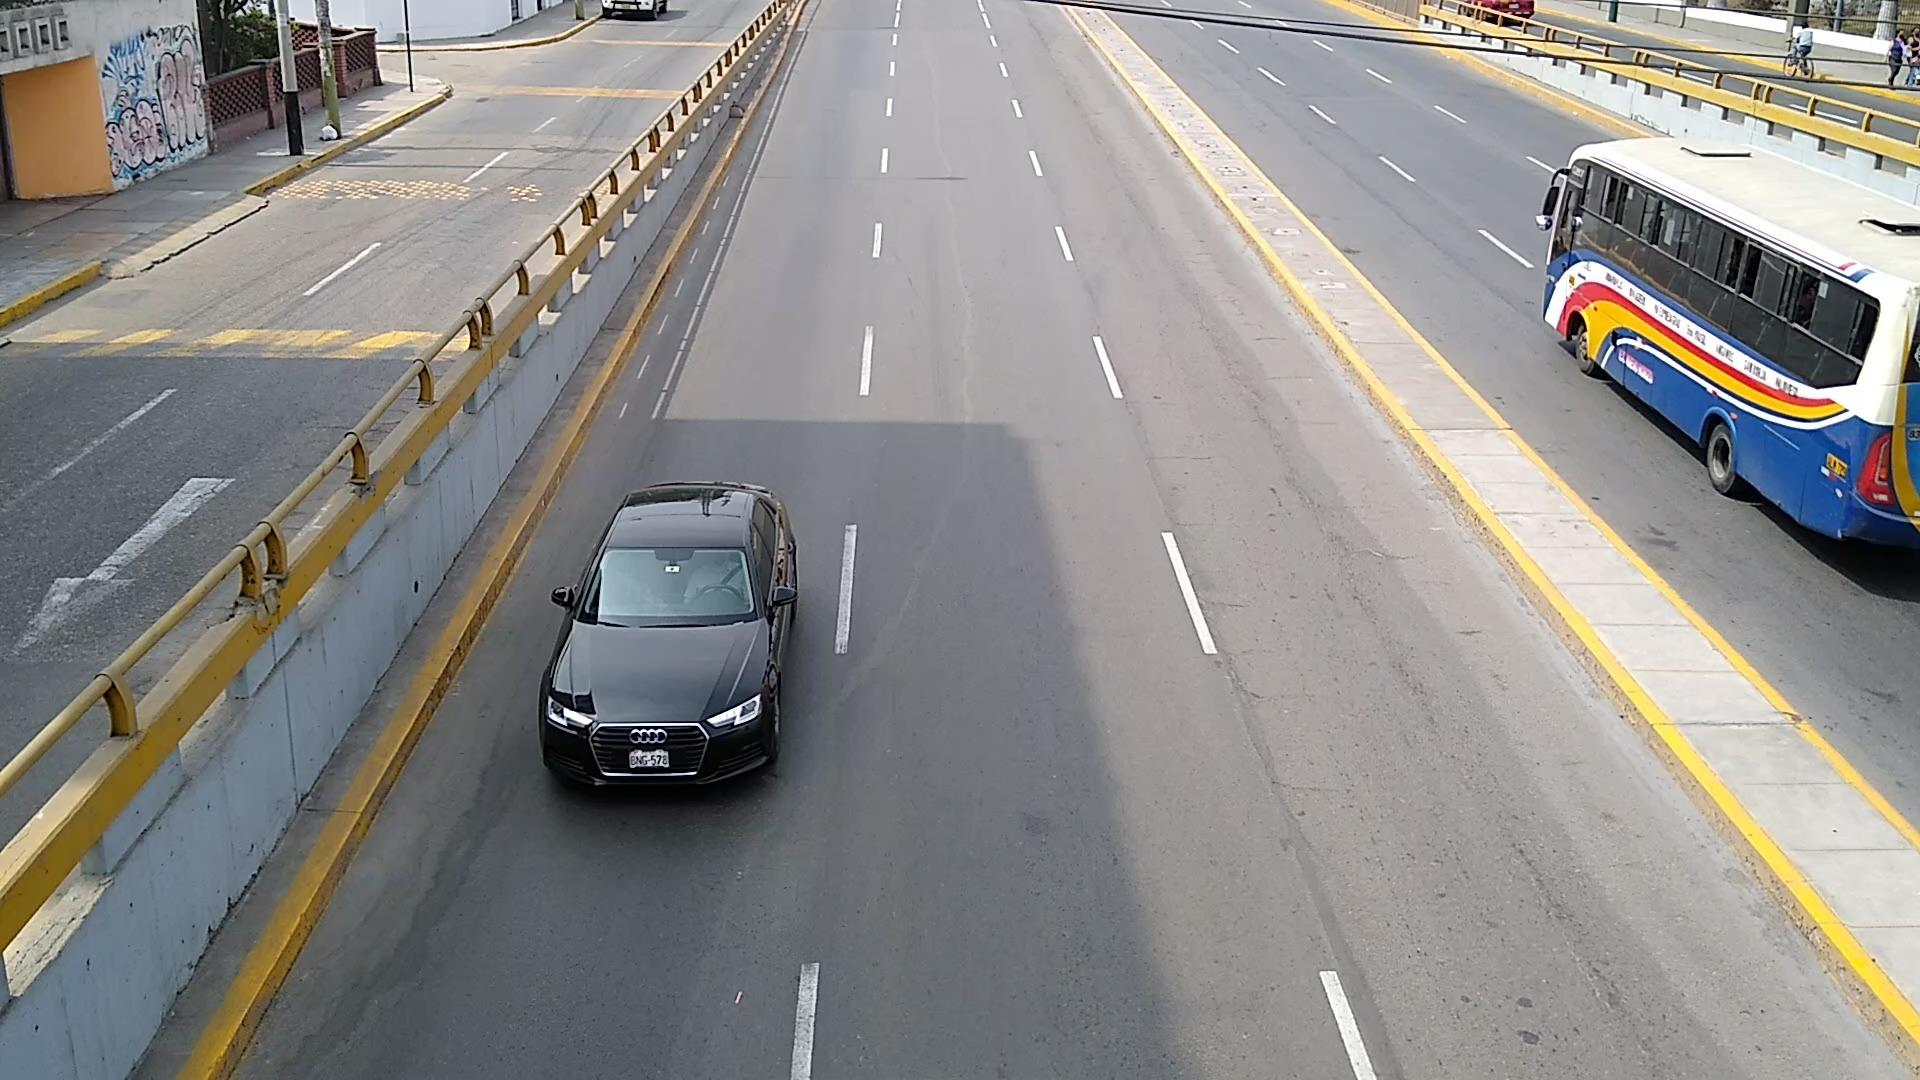bus: (1538, 138, 1920, 547)
car: (541, 484, 799, 787)
